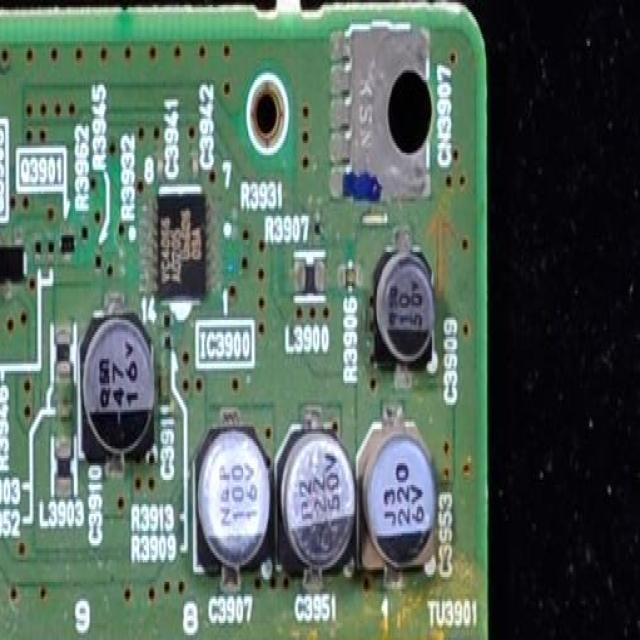IC: (144, 165, 214, 315)
capacitor: (76, 308, 164, 459), (277, 429, 359, 582), (195, 429, 278, 578), (373, 250, 448, 376), (371, 422, 438, 557), (53, 393, 80, 429)
resistor: (224, 194, 243, 260), (308, 199, 326, 253), (113, 242, 129, 286), (341, 255, 358, 296), (90, 238, 106, 276), (32, 220, 44, 264), (164, 330, 184, 356), (46, 230, 58, 264), (157, 308, 174, 327)
transistor: (56, 230, 78, 256)
